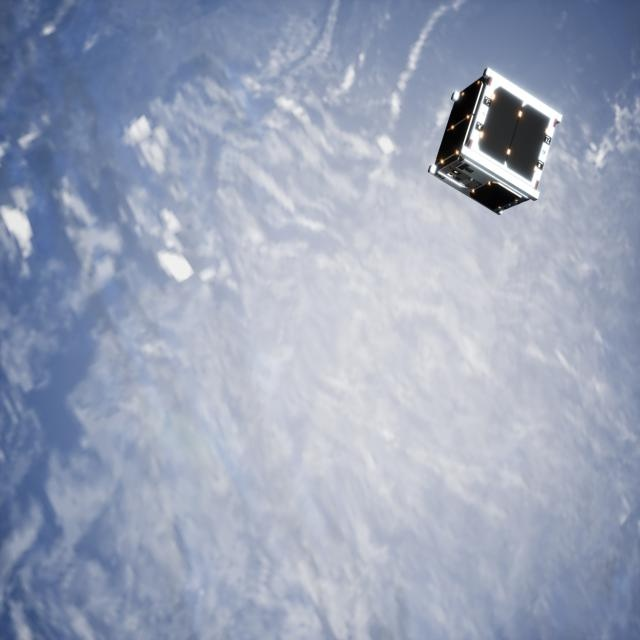medium_debris: (425, 64, 563, 219)
